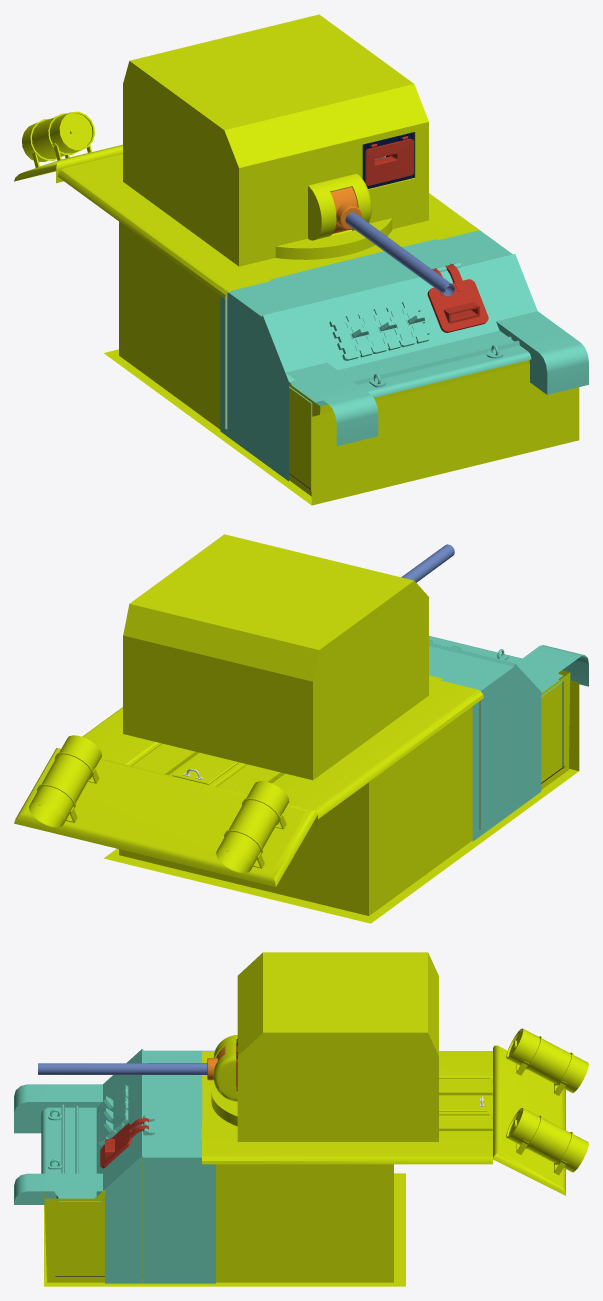
Rendered from Tank_For_Lighting.fbx.fbx.
3 renders of one model, top to bottom at view 1: azimuth 30°, elevation 25°; view 2: azimuth 150°, elevation 25°; view 3: azimuth 270°, elevation 25°, orthographic. The views are drawn at different scales.
Parts seen in each view (by area): view 1: Light_Blocks, Front_Armor, Chassis_Light_Block, Outter_Top_Plate, Right_Barrel, Outter_Gun_Shield, Turret_Cover_Plate, Ring_Shiled, Hatch, Turret_Hatch_Door, Outter_Barrel, Back_Plate (+7 smaller); view 2: Light_Blocks, Chassis_Light_Block, Back_Plate, Front_Armor, Outter_Top_Plate, Left_Barrel, Right_Barrel, Left_Vent, Outter_Hatch, Right_Vent, Outter_Barrel; view 3: Light_Blocks, Front_Armor, Chassis_Light_Block, Outter_Top_Plate, Back_Plate, Left_Barrel, Right_Barrel, Outter_Barrel, Outter_Gun_Shield, Turret_Cover_Plate, Right_Vent, Left_Vent (+3 smaller).
Part boxes in pixels (<box>): Light_Blocks: <box>123,14,428,266</box>; Front_Armor: <box>220,225,588,491</box>; Chassis_Light_Block: <box>104,222,579,505</box>; Outter_Top_Plate: <box>57,154,479,298</box>; Right_Barrel: <box>22,111,94,162</box>; Outter_Gun_Shield: <box>308,174,371,240</box>; Turret_Cover_Plate: <box>246,222,442,280</box>; Ring_Shiled: <box>275,218,392,259</box>; Hatch: <box>427,264,488,332</box>; Turret_Hatch_Door: <box>365,136,413,185</box>; Outter_Barrel: <box>345,212,454,296</box>; Back_Plate: <box>14,144,122,183</box>; Light_Blocks: <box>123,534,428,780</box>; Chassis_Light_Block: <box>103,670,579,923</box>; Back_Plate: <box>14,748,317,887</box>; Front_Armor: <box>429,636,588,841</box>; Outter_Top_Plate: <box>82,680,483,818</box>; Left_Barrel: <box>29,735,101,827</box>; Right_Barrel: <box>216,781,289,873</box>; Left_Vent: <box>129,743,198,774</box>; Outter_Hatch: <box>172,753,238,784</box>; Right_Vent: <box>214,763,284,794</box>; Outter_Barrel: <box>401,544,454,582</box>; Light_Blocks: <box>237,952,438,1141</box>; Front_Armor: <box>14,1049,215,1283</box>; Chassis_Light_Block: <box>44,1159,405,1286</box>; Outter_Top_Plate: <box>202,1051,492,1164</box>; Back_Plate: <box>493,1045,565,1195</box>; Left_Barrel: <box>506,1108,588,1172</box>; Right_Barrel: <box>506,1028,588,1092</box>; Outter_Barrel: <box>38,1063,207,1074</box>; Outter_Gun_Shield: <box>213,1035,237,1101</box>; Turret_Cover_Plate: <box>201,1075,237,1139</box>; Right_Vent: <box>439,1077,492,1095</box>; Left_Vent: <box>439,1113,492,1130</box>.
Bounding box in the file's own units: 284 × 279 × 608.
